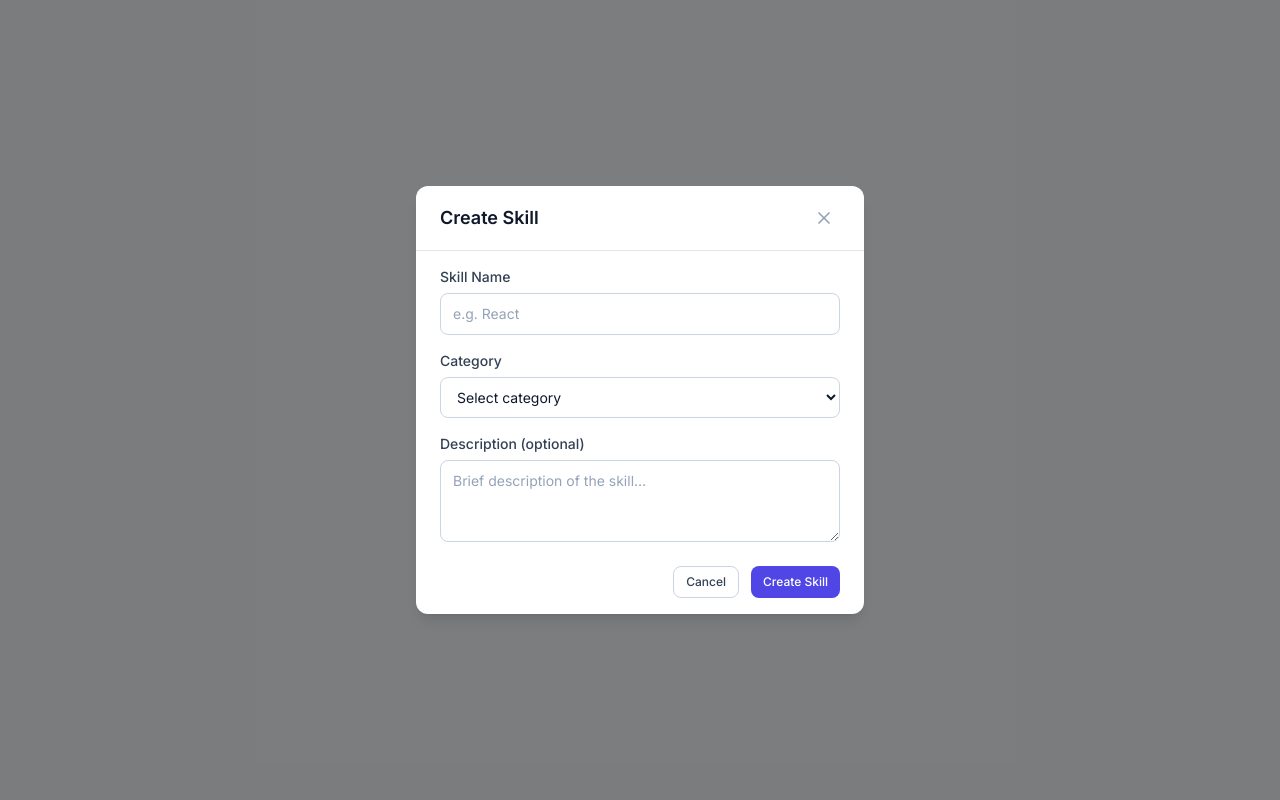
Test case: SkillFormModal category select › starts on the placeholder and asks for a category instead of picking one
Expected: the dropdown labelled "Category" shows "Select category", x1=440 y1=377 x2=840 y2=418
Type "React" into the field labelled "Skill Name" at (640, 314), box x1=440 y1=293 x2=840 y2=335
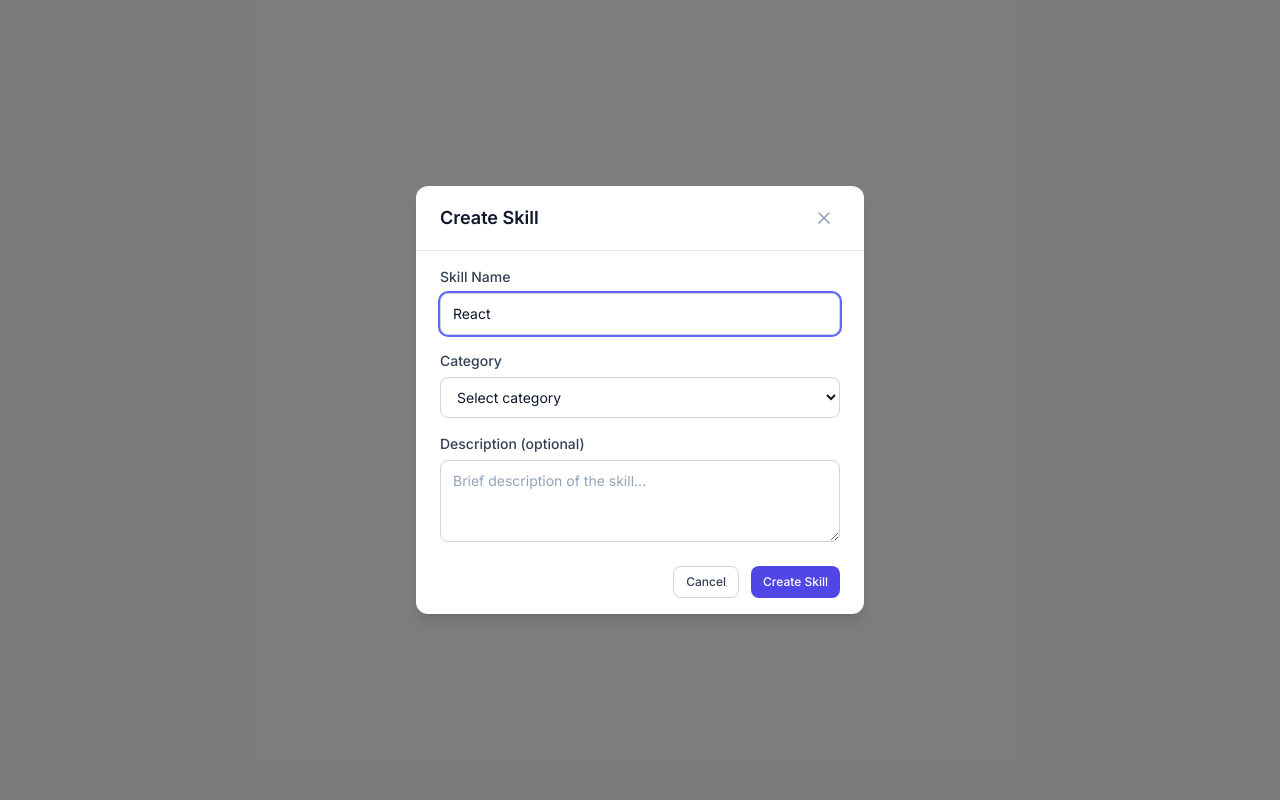
Click the button "Create Skill" at (796, 582), box x1=751 y1=566 x2=840 y2=598
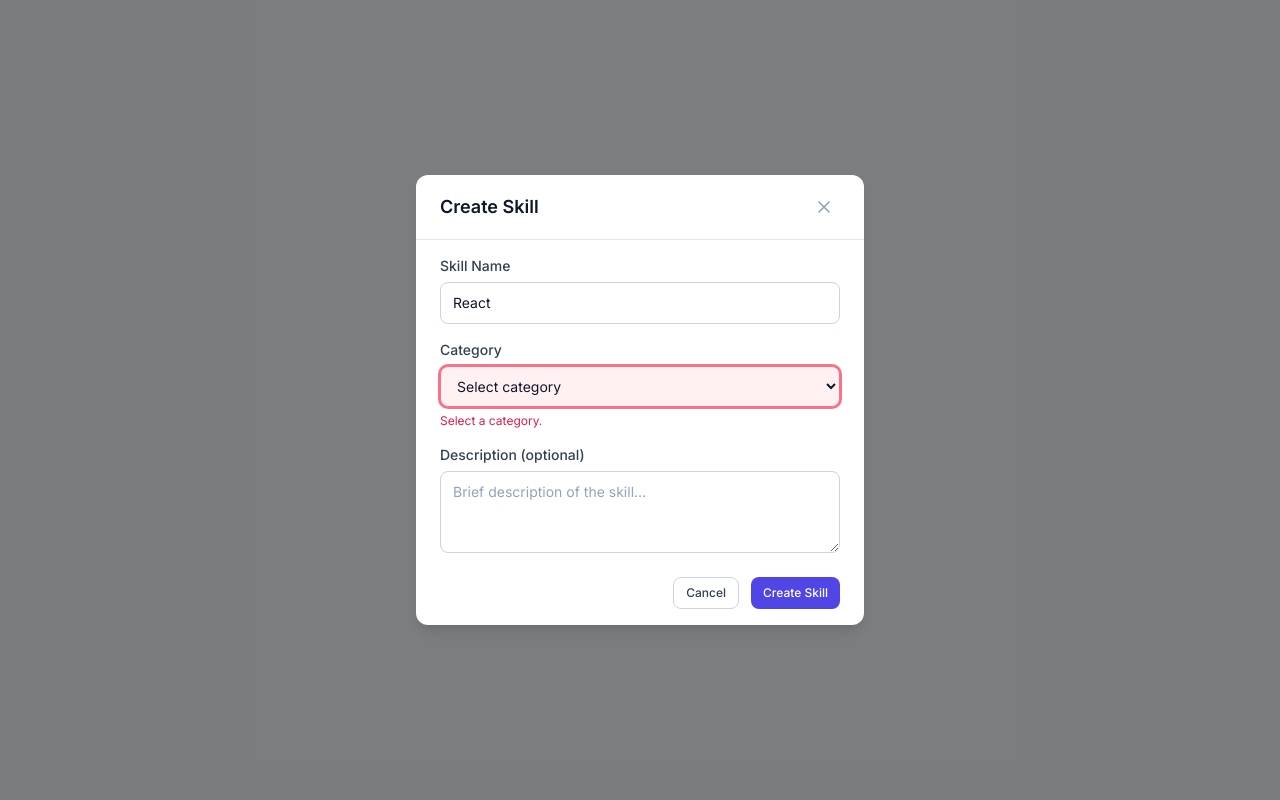
Now the text "Select a category." is shown, box x1=440 y1=413 x2=542 y2=428
